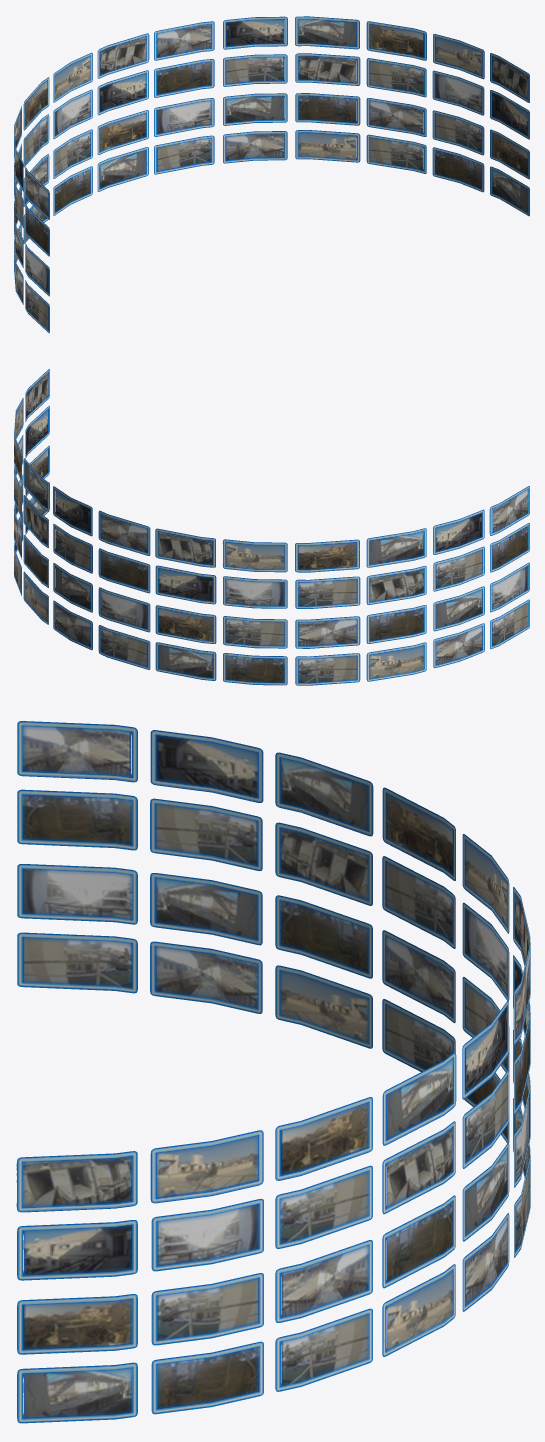
File: Screens Mesh.fbx
3 views of the same model, one above another, from view 1: azimuth 30°, elevation 25°; view 2: azimuth 150°, elevation 25°; view 3: azimuth 270°, elevation 25° (orthographic). The views are drawn at different scales.
Parts seen in each view (by area): view 1: Cylinder.001; view 2: Cylinder.001; view 3: Cylinder.001.
Boxes of the visible parts, x1=… form: Cylinder.001: x1=14, y1=16, x2=529, y2=333; Cylinder.001: x1=14, y1=369, x2=529, y2=685; Cylinder.001: x1=16, y1=721, x2=530, y2=1423.
Bounding box in the file's own units: 2731 × 800 × 1365.
